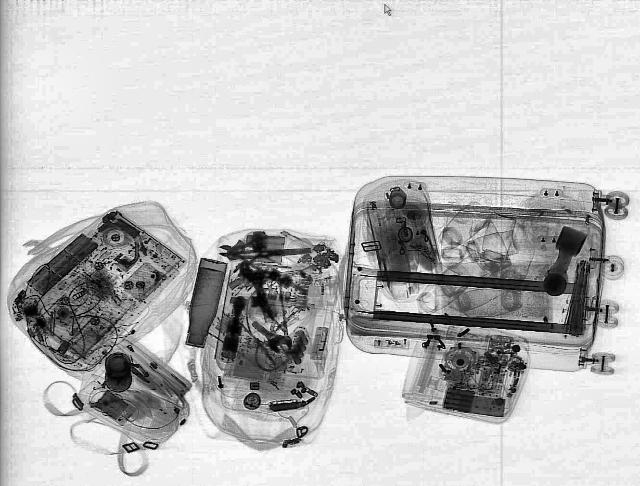Wrench: (243, 317, 300, 357)
